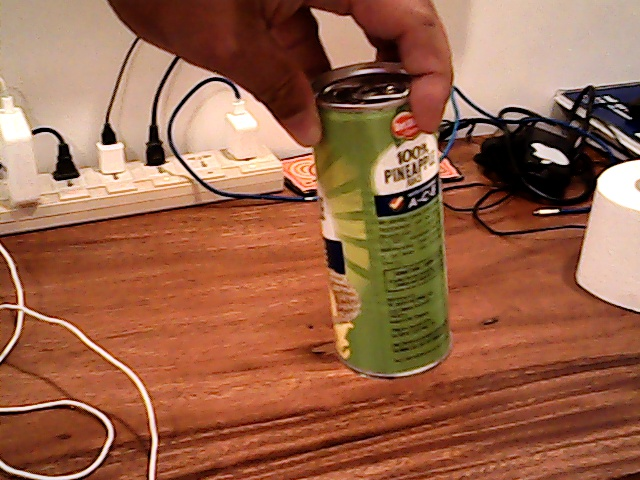Pine Juice: (310, 77, 463, 396)
